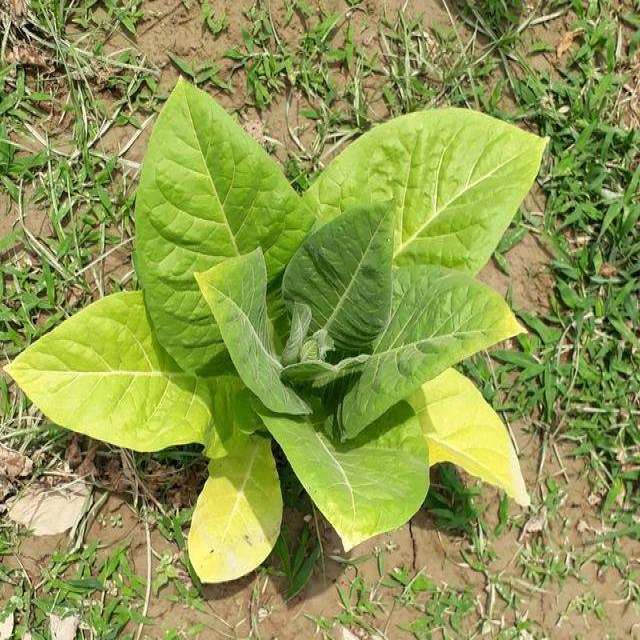crop: (11, 79, 552, 583)
